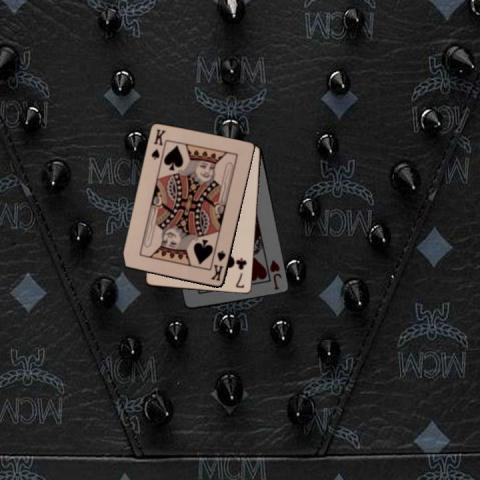7c: (233, 256, 248, 290)
Jh: (267, 258, 283, 292)
Ks: (208, 248, 227, 283), (149, 127, 167, 161)
